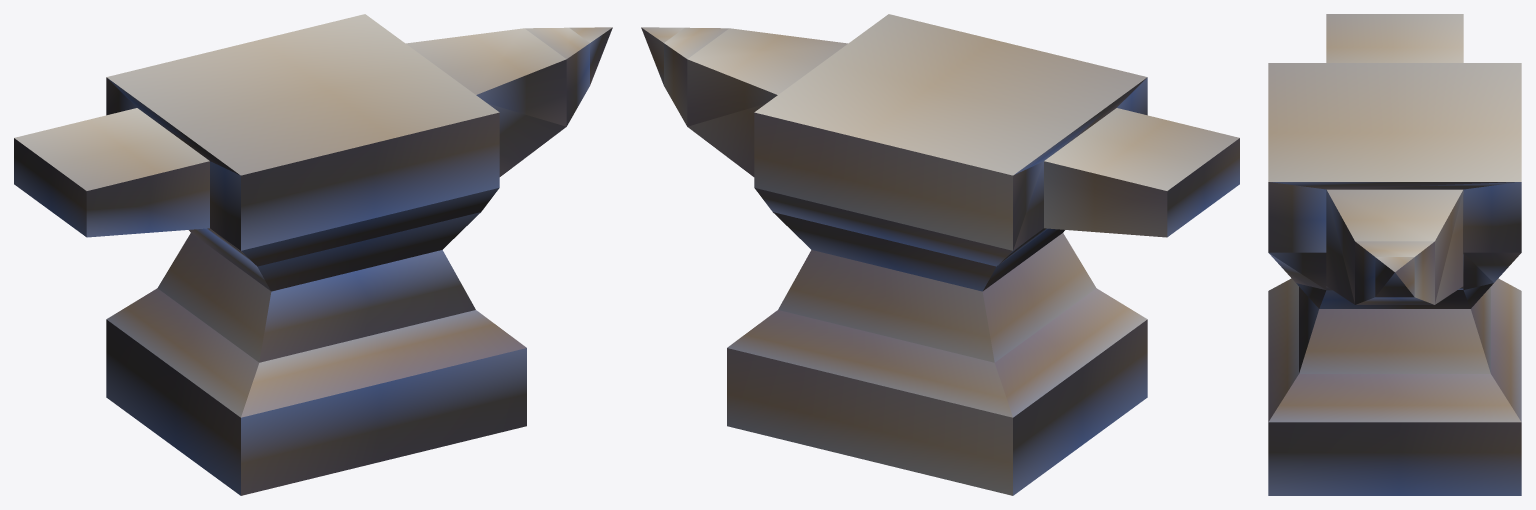
Rendered from anvil.fbx.
The picture shows the model from 3 angles, left to right: view 1: azimuth 30°, elevation 25°; view 2: azimuth 150°, elevation 25°; view 3: azimuth 270°, elevation 25°; orthographic projection. The views are drawn at different scales.
Visible parts, largest first — view 1: anvil; view 2: anvil; view 3: anvil.
Part boxes in pixels (box(x1,y1,x2,y2)): anvil: box(14, 14, 612, 495); anvil: box(641, 14, 1239, 495); anvil: box(1268, 14, 1521, 495).
Size of the model in its own units: 169 by 91.79 by 69.87.
